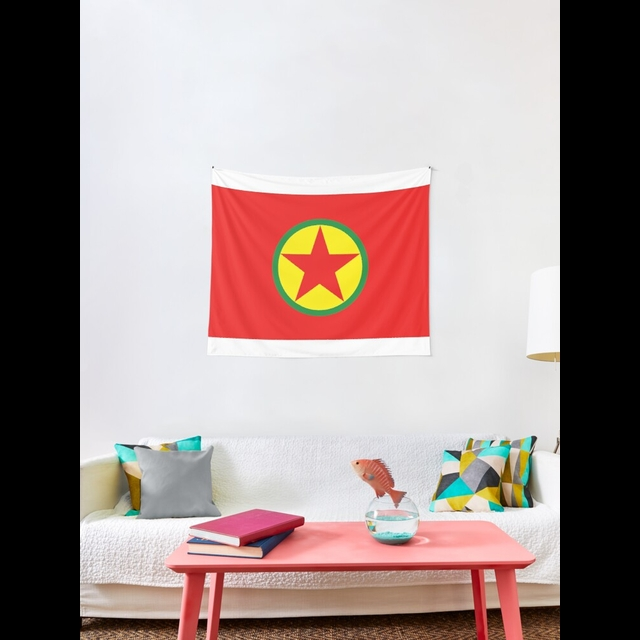PKK: (260, 210, 392, 324)
